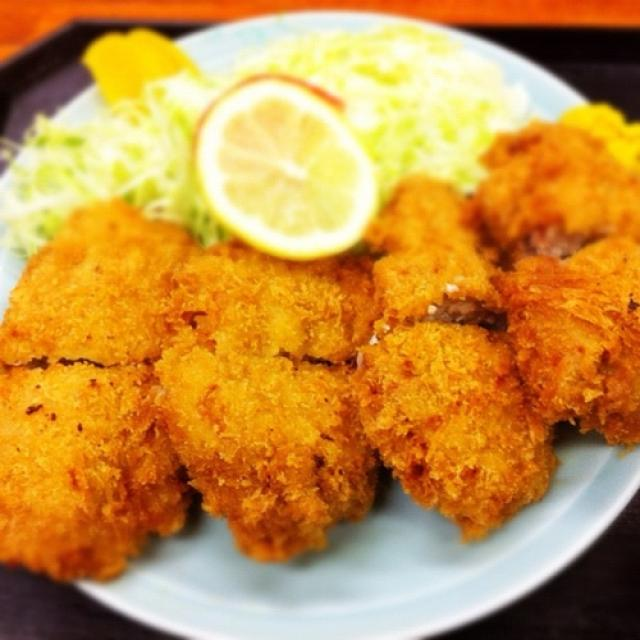牛肉菜式: (1, 66, 635, 602)
